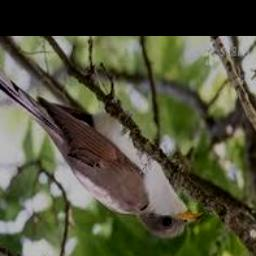Cuckoo: (0, 55, 207, 237)
